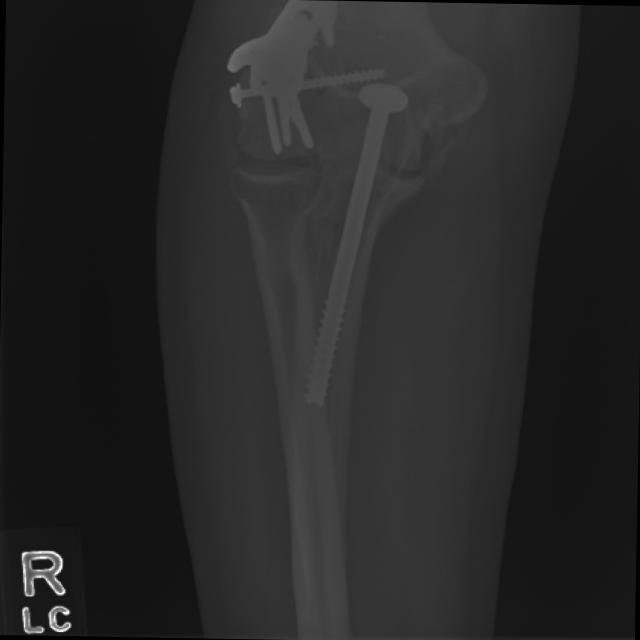elbow positive: (369, 99, 469, 220)
